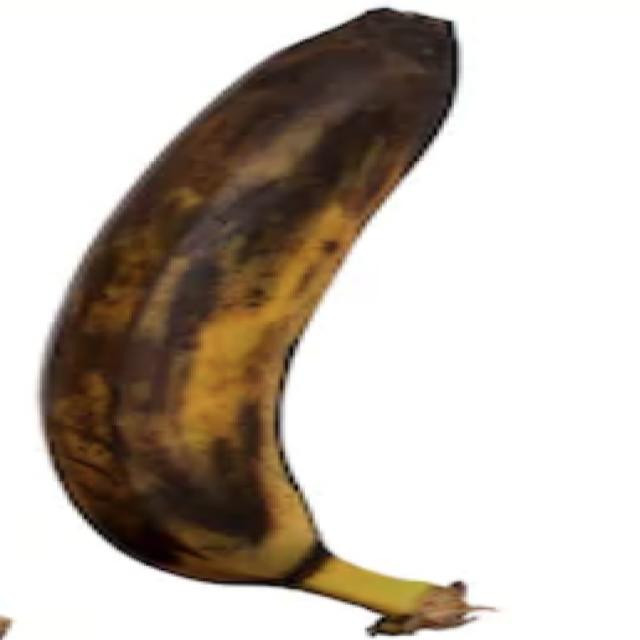rotten-banana: (37, 6, 508, 640)
